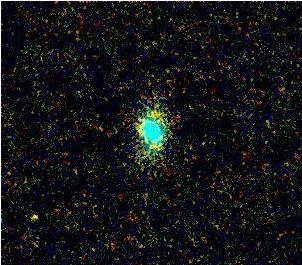star: (18, 201, 48, 231)
